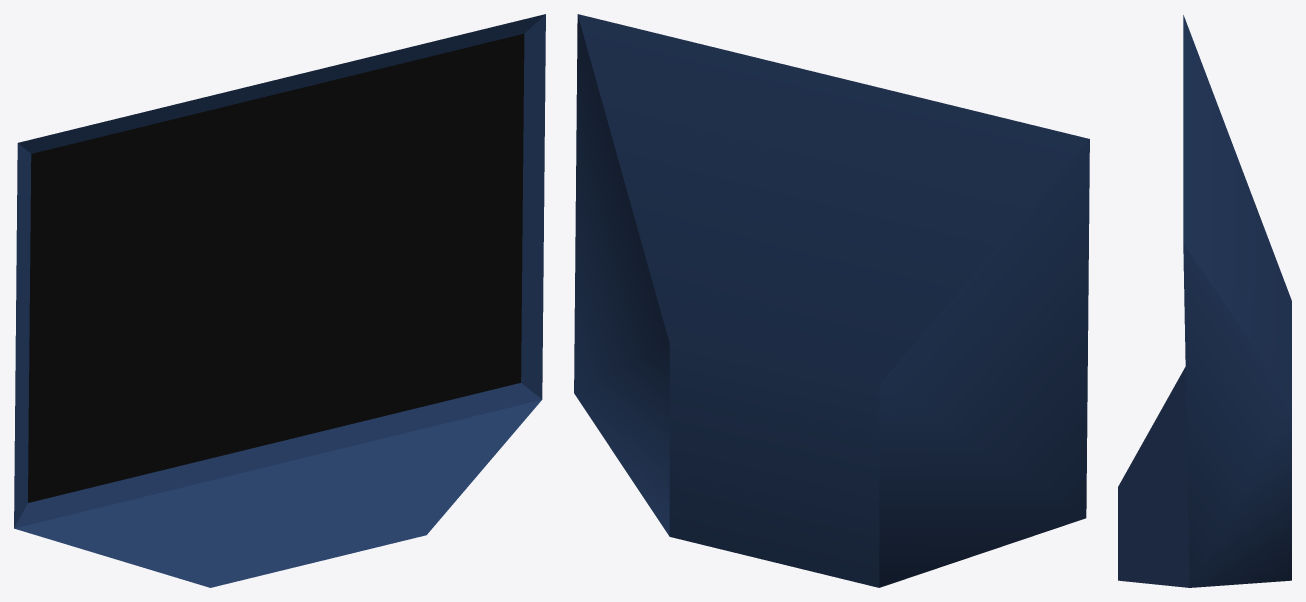
The picture shows the model from 3 angles, left to right: view 1: azimuth 30°, elevation 25°; view 2: azimuth 150°, elevation 25°; view 3: azimuth 270°, elevation 25°; orthographic projection. The views are drawn at different scales.
Parts seen in each view (by area): view 1: Box001; view 2: Box001; view 3: Box001.
Part boxes in pixels (left/top/right/bottom): Box001: left=14, top=14, right=545, bottom=587; Box001: left=574, top=14, right=1089, bottom=587; Box001: left=1118, top=15, right=1291, bottom=587.
Size of the model in its own units: 33.18 by 27.38 by 10.65.
